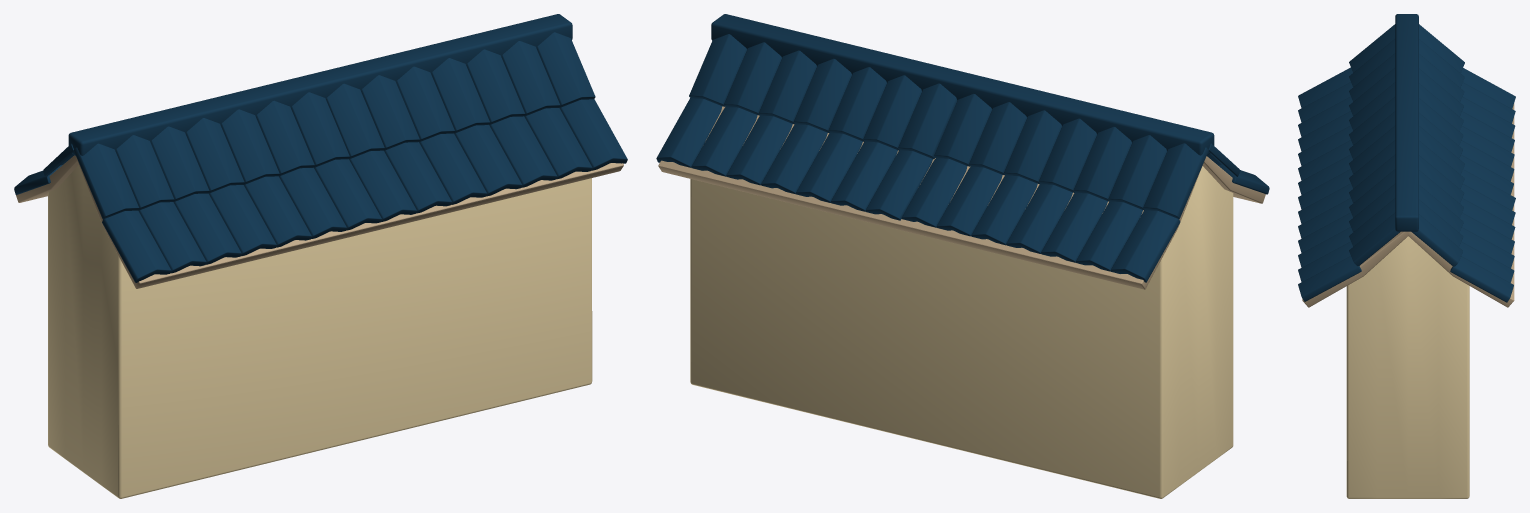
File: Wall.fbx
3 views of the same model, side by side, from view 1: azimuth 30°, elevation 25°; view 2: azimuth 150°, elevation 25°; view 3: azimuth 270°, elevation 25° (orthographic). The views are drawn at different scales.
Parts seen in each view (by area): view 1: Wall; view 2: Wall; view 3: Wall.
Part boxes in pixels (left/top/right/bottom): Wall: left=14, top=14, right=627, bottom=498; Wall: left=656, top=14, right=1269, bottom=498; Wall: left=1298, top=14, right=1515, bottom=498.
Size of the model in its own units: 3958 by 2598 by 1786.
